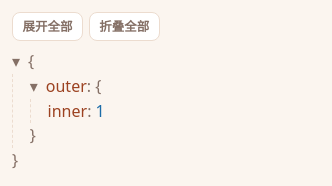
it: collapse-all then expand-all
Click the button "折叠全部" at (124,26), box [89, 12, 160, 41]
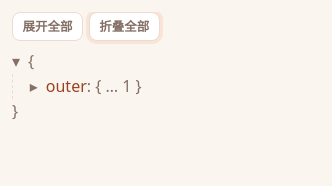
expect the text "inner" is gone: met
Click the button "展开全部" at (48,26), box [12, 12, 83, 41]
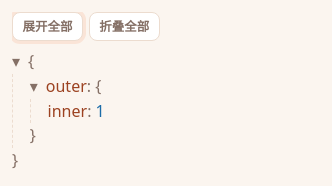
expect the text "inner" is shown: met, box [48, 100, 87, 122]
